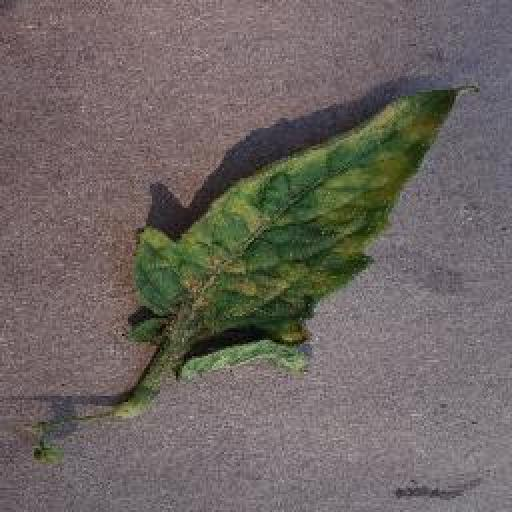disease_tomato: (133, 78, 480, 382)
